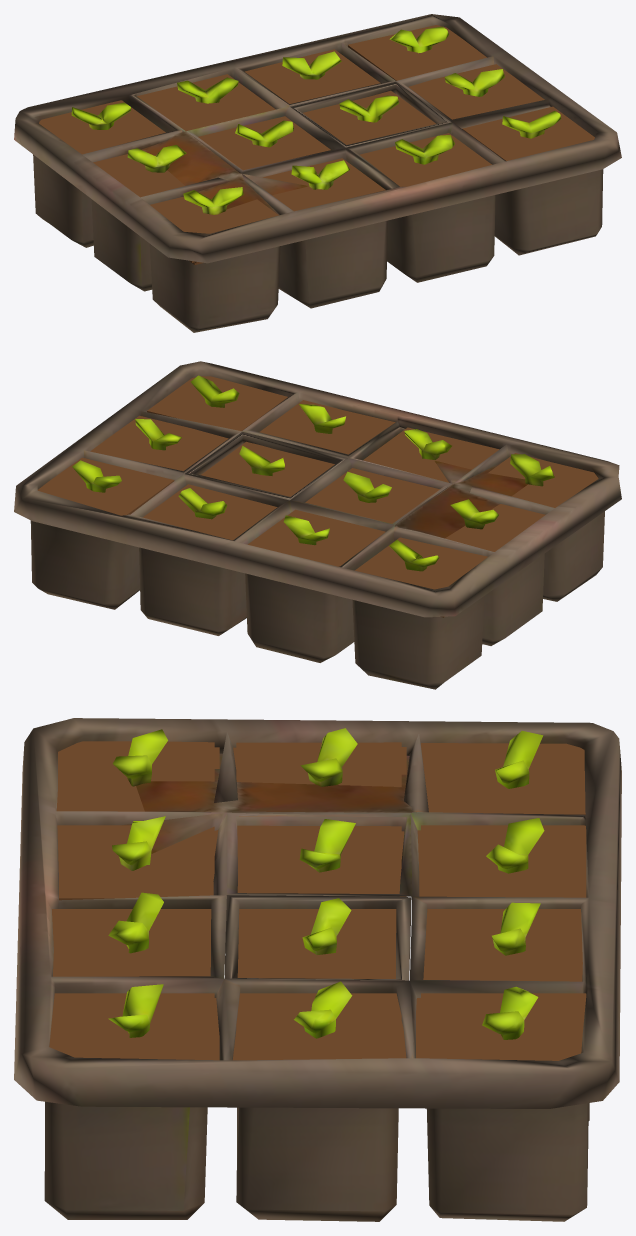
3 views of the same model, one above another, from view 1: azimuth 30°, elevation 25°; view 2: azimuth 150°, elevation 25°; view 3: azimuth 270°, elevation 25° (orthographic). The views are drawn at different scales.
Parts seen in each view (by area): view 1: tripo_node_52ffaec6-fb22-4539-8b55-ea099103fd6f, 외형 세부; view 2: tripo_node_52ffaec6-fb22-4539-8b55-ea099103fd6f, 외형 세부; view 3: tripo_node_52ffaec6-fb22-4539-8b55-ea099103fd6f, 외형 세부.
Boxes of the visible parts, left/top/right/bottom form: tripo_node_52ffaec6-fb22-4539-8b55-ea099103fd6f: left=14, top=14, right=621, bottom=332; 외형 세부: left=39, top=25, right=594, bottom=264; tripo_node_52ffaec6-fb22-4539-8b55-ea099103fd6f: left=14, top=361, right=621, bottom=689; 외형 세부: left=37, top=376, right=598, bottom=617; tripo_node_52ffaec6-fb22-4539-8b55-ea099103fd6f: left=14, top=718, right=621, bottom=1221; 외형 세부: left=49, top=741, right=586, bottom=1060.
Bounding box in the file's own units: 1.25 × 0.3223 × 0.8977.
2 materials, 1 textured.
